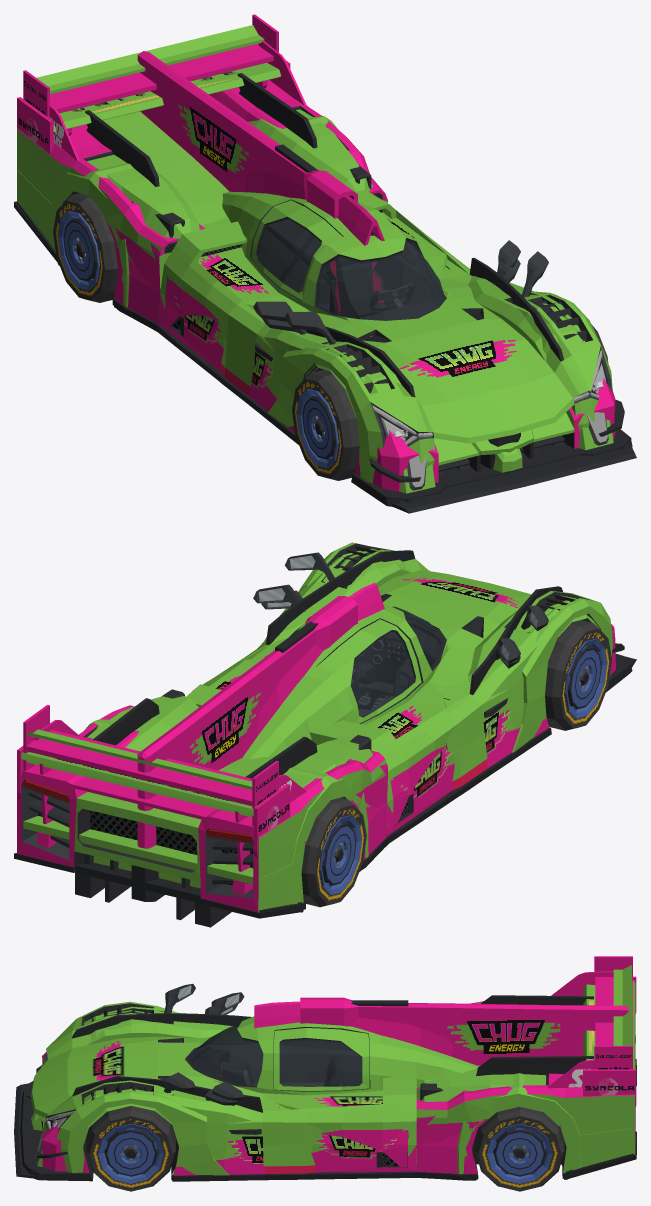
File: redline_pro_prototype.glb
The picture shows the model from 3 angles, top to bottom: view 1: azimuth 30°, elevation 25°; view 2: azimuth 150°, elevation 25°; view 3: azimuth 270°, elevation 25°; orthographic projection. The views are drawn at different scales.
Parts seen in each view (by area): view 1: V_Front_Bumper_02, V_Rear_Bumper_03, Body, V_Front_Bumper_03, V_Rear_Bumper_02, V_Rear_Bumper_01, Glass, V_Side_Skirts_02, V_Front_Bumper_01, V_Side_Skirts_01, W_Wheel_FR_03, W_Wheel_RR_03 (+5 smaller); view 2: V_Rear_Bumper_03, V_Rear_Bumper_01, V_Front_Bumper_02, Body, V_Front_Bumper_03, V_Side_Skirts_02, V_Rear_Bumper_02, V_Side_Skirts_01, Glass, W_Wheel_FR_03, W_Wheel_RR_03, V_Side_Skirts_03 (+6 smaller); view 3: V_Rear_Bumper_03, V_Front_Bumper_02, Body, V_Rear_Bumper_01, V_Front_Bumper_03, V_Side_Skirts_02, Glass, V_Rear_Bumper_02, V_Side_Skirts_01, W_Wheel_RL_03, W_Wheel_FL_03, V_Front_Bumper_01 (+7 smaller).
Boxes of the visible parts, x1=… form: V_Front_Bumper_02: x1=247, y1=251, x2=632, y2=506; V_Rear_Bumper_03: x1=14, y1=14, x2=388, y2=331; Body: x1=222, y1=191, x2=446, y2=320; V_Front_Bumper_03: x1=247, y1=240, x2=631, y2=505; V_Rear_Bumper_02: x1=49, y1=41, x2=372, y2=330; V_Rear_Bumper_01: x1=17, y1=60, x2=384, y2=331; Glass: x1=257, y1=218, x2=445, y2=320; V_Side_Skirts_02: x1=158, y1=189, x2=470, y2=403; V_Front_Bumper_01: x1=246, y1=259, x2=636, y2=513; V_Side_Skirts_01: x1=158, y1=212, x2=447, y2=371; W_Wheel_FR_03: x1=292, y1=373, x2=355, y2=480; W_Wheel_RR_03: x1=53, y1=195, x2=113, y2=302; V_Rear_Bumper_03: x1=14, y1=596, x2=389, y2=918; V_Rear_Bumper_01: x1=17, y1=582, x2=389, y2=927; V_Front_Bumper_02: x1=266, y1=542, x2=632, y2=767; Body: x1=242, y1=604, x2=446, y2=759; V_Front_Bumper_03: x1=253, y1=550, x2=630, y2=773; V_Side_Skirts_02: x1=187, y1=644, x2=492, y2=842; V_Rear_Bumper_02: x1=35, y1=696, x2=389, y2=912; V_Side_Skirts_01: x1=209, y1=657, x2=454, y2=836; Glass: x1=289, y1=606, x2=444, y2=717; W_Wheel_FR_03: x1=545, y1=620, x2=611, y2=730; W_Wheel_RR_03: x1=302, y1=799, x2=366, y2=907; V_Side_Skirts_03: x1=391, y1=681, x2=488, y2=835; V_Rear_Bumper_03: x1=300, y1=956, x2=636, y2=1180; V_Front_Bumper_02: x1=20, y1=984, x2=262, y2=1179; Body: x1=185, y1=1016, x2=477, y2=1095; V_Rear_Bumper_01: x1=254, y1=976, x2=636, y2=1179; V_Front_Bumper_03: x1=26, y1=992, x2=262, y2=1181; V_Side_Skirts_02: x1=263, y1=1073, x2=416, y2=1180; Glass: x1=187, y1=1023, x2=362, y2=1086; V_Rear_Bumper_02: x1=416, y1=971, x2=613, y2=1180; V_Side_Skirts_01: x1=263, y1=1086, x2=416, y2=1172; W_Wheel_RL_03: x1=475, y1=1107, x2=564, y2=1191; W_Wheel_FL_03: x1=86, y1=1110, x2=175, y2=1191; V_Front_Bumper_01: x1=14, y1=1004, x2=262, y2=1179.
Size of the model in its own units: 1.76 by 1.11 by 4.4.
4 materials, 3 textured.
